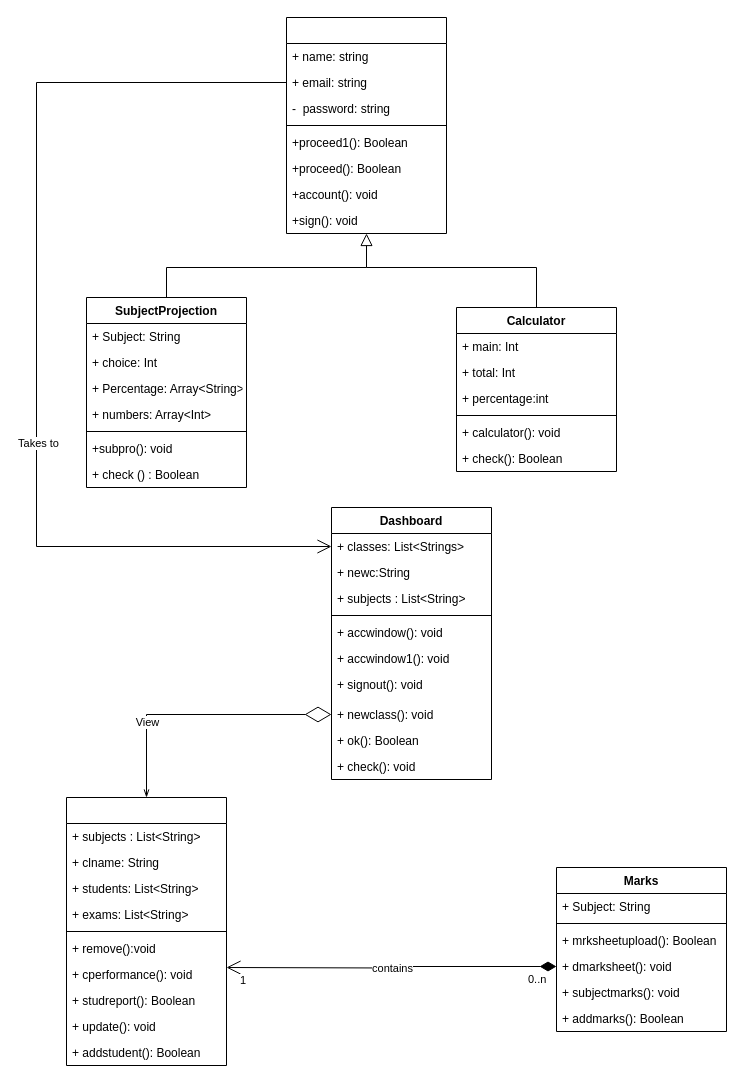
Some shapes in this 744 by 1086 pixel diagram are drawn without their labels. Each missing label, with the box of its shape:
Class Profile: (66, 796, 226, 1066)
Homepage: (286, 16, 446, 234)
